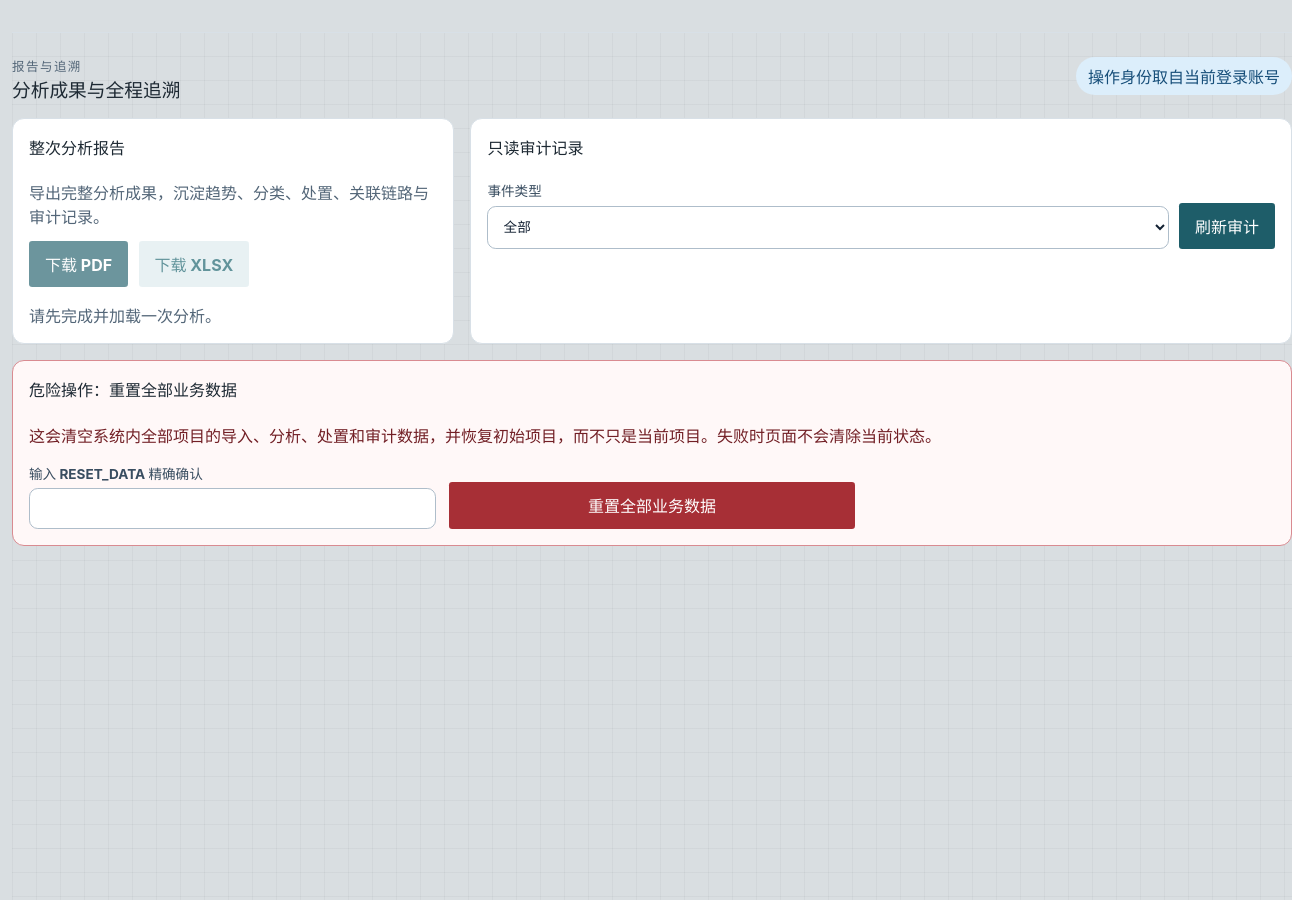
Test: M5 报告、审计与演示复位 › 审计失败可独立重试，并按固定事件类型分页查询
The image size is (1292, 900).
Click the button with test id "audit-refresh". click: (1227, 226)
box: [1179, 203, 1275, 249]
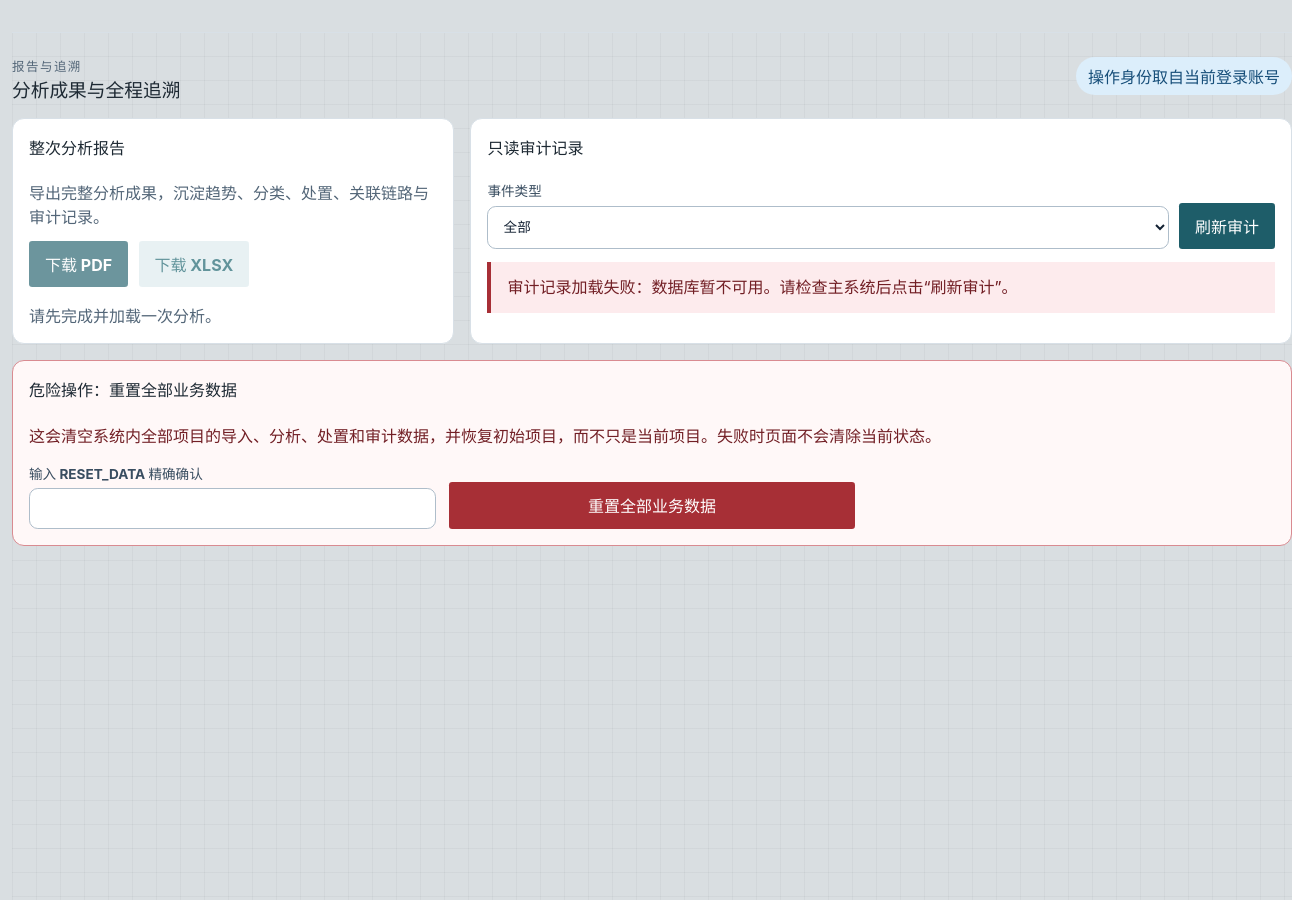
Now the message shows "数据库暂不可用", box [507, 277, 1018, 297]
Select "人工修订分类" in the dropdown with test id "audit-filter". click: (828, 228)
box: [487, 206, 1169, 249]
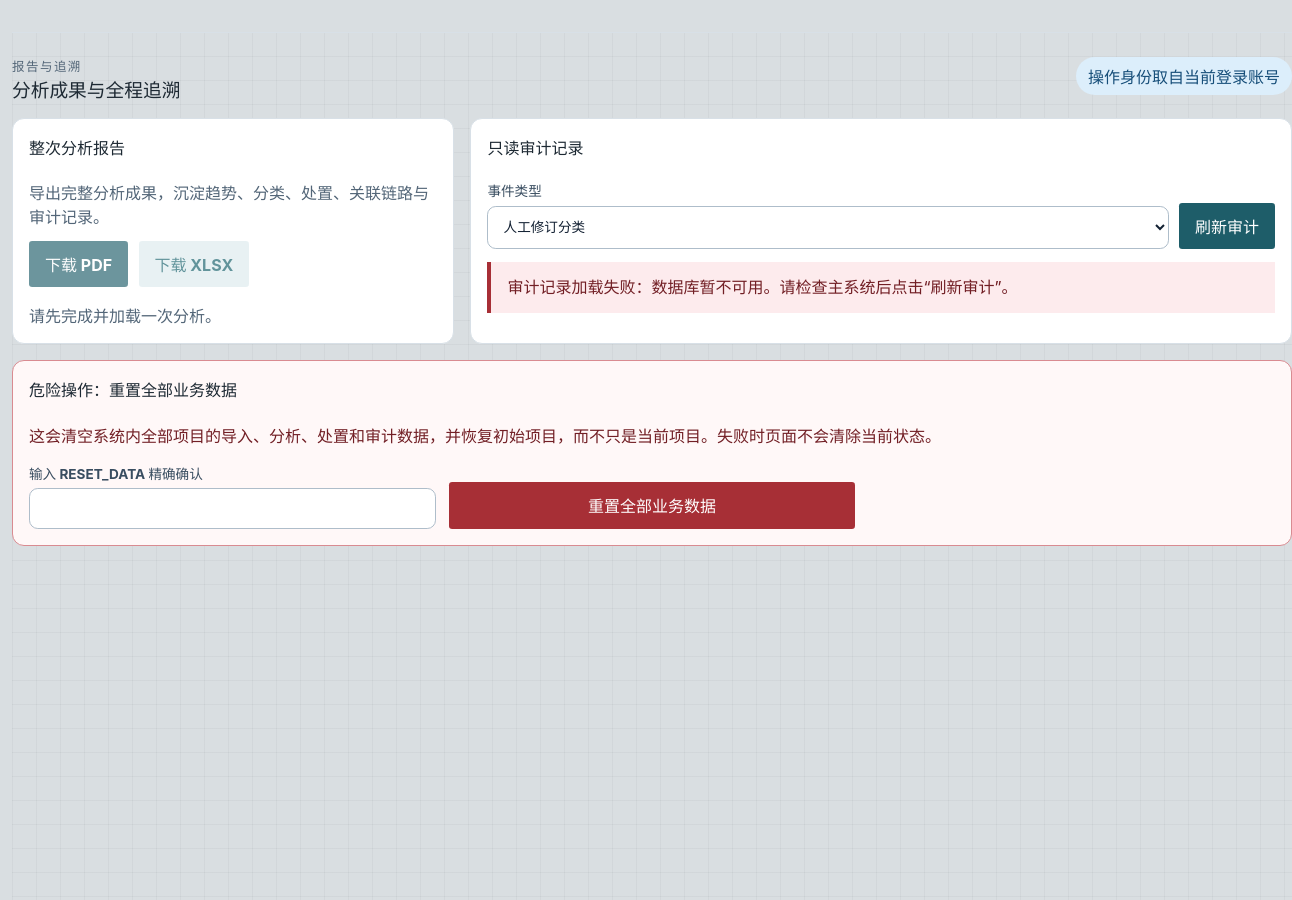
Click the button with test id "audit-refresh". click: (1227, 226)
box: [1179, 203, 1275, 249]
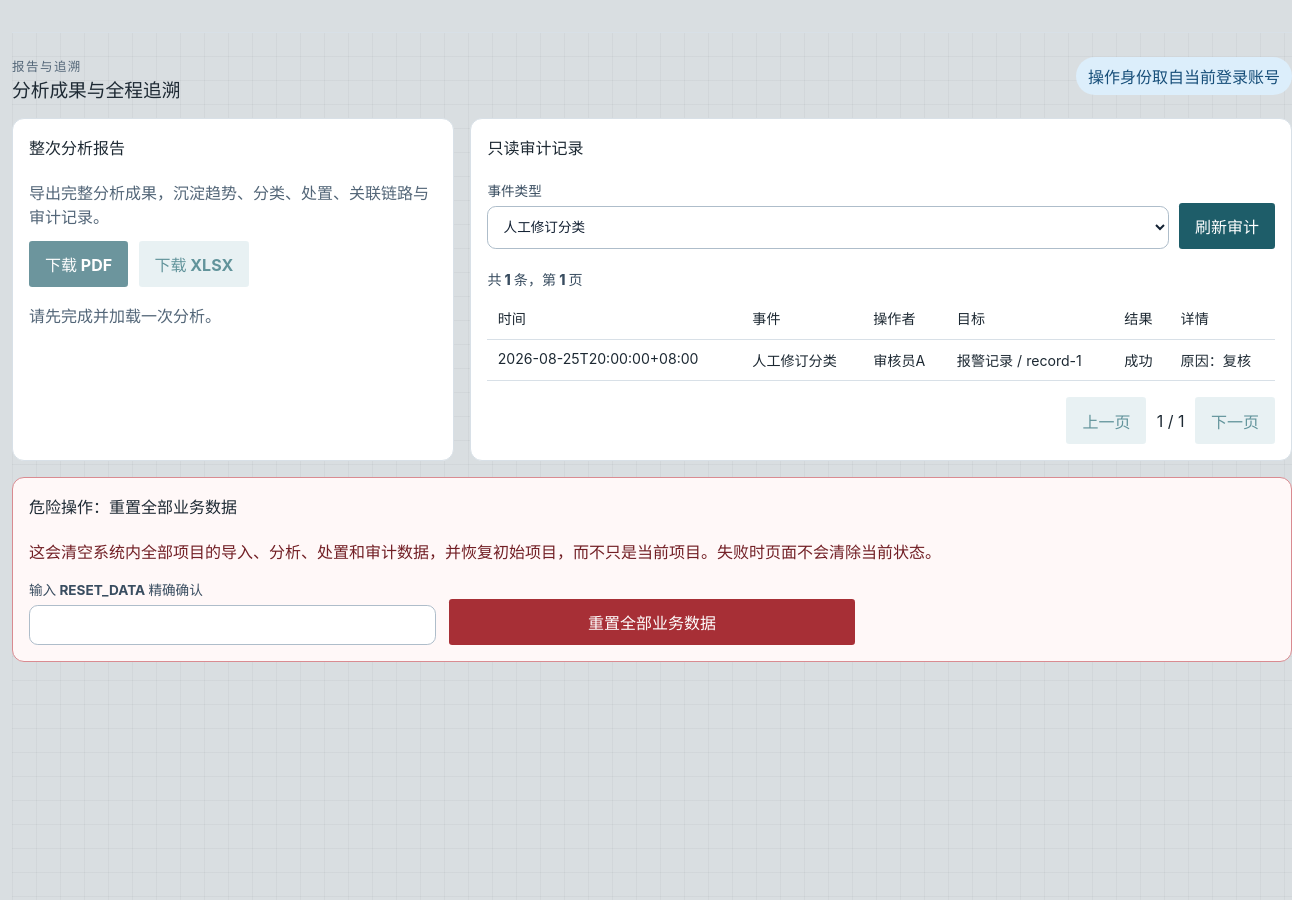
Now the element with test id "audit-table" shows "人工修订分类", box [752, 352, 837, 369]
Now the element with test id "audit-table" shows "审核员A", box [873, 352, 925, 369]
